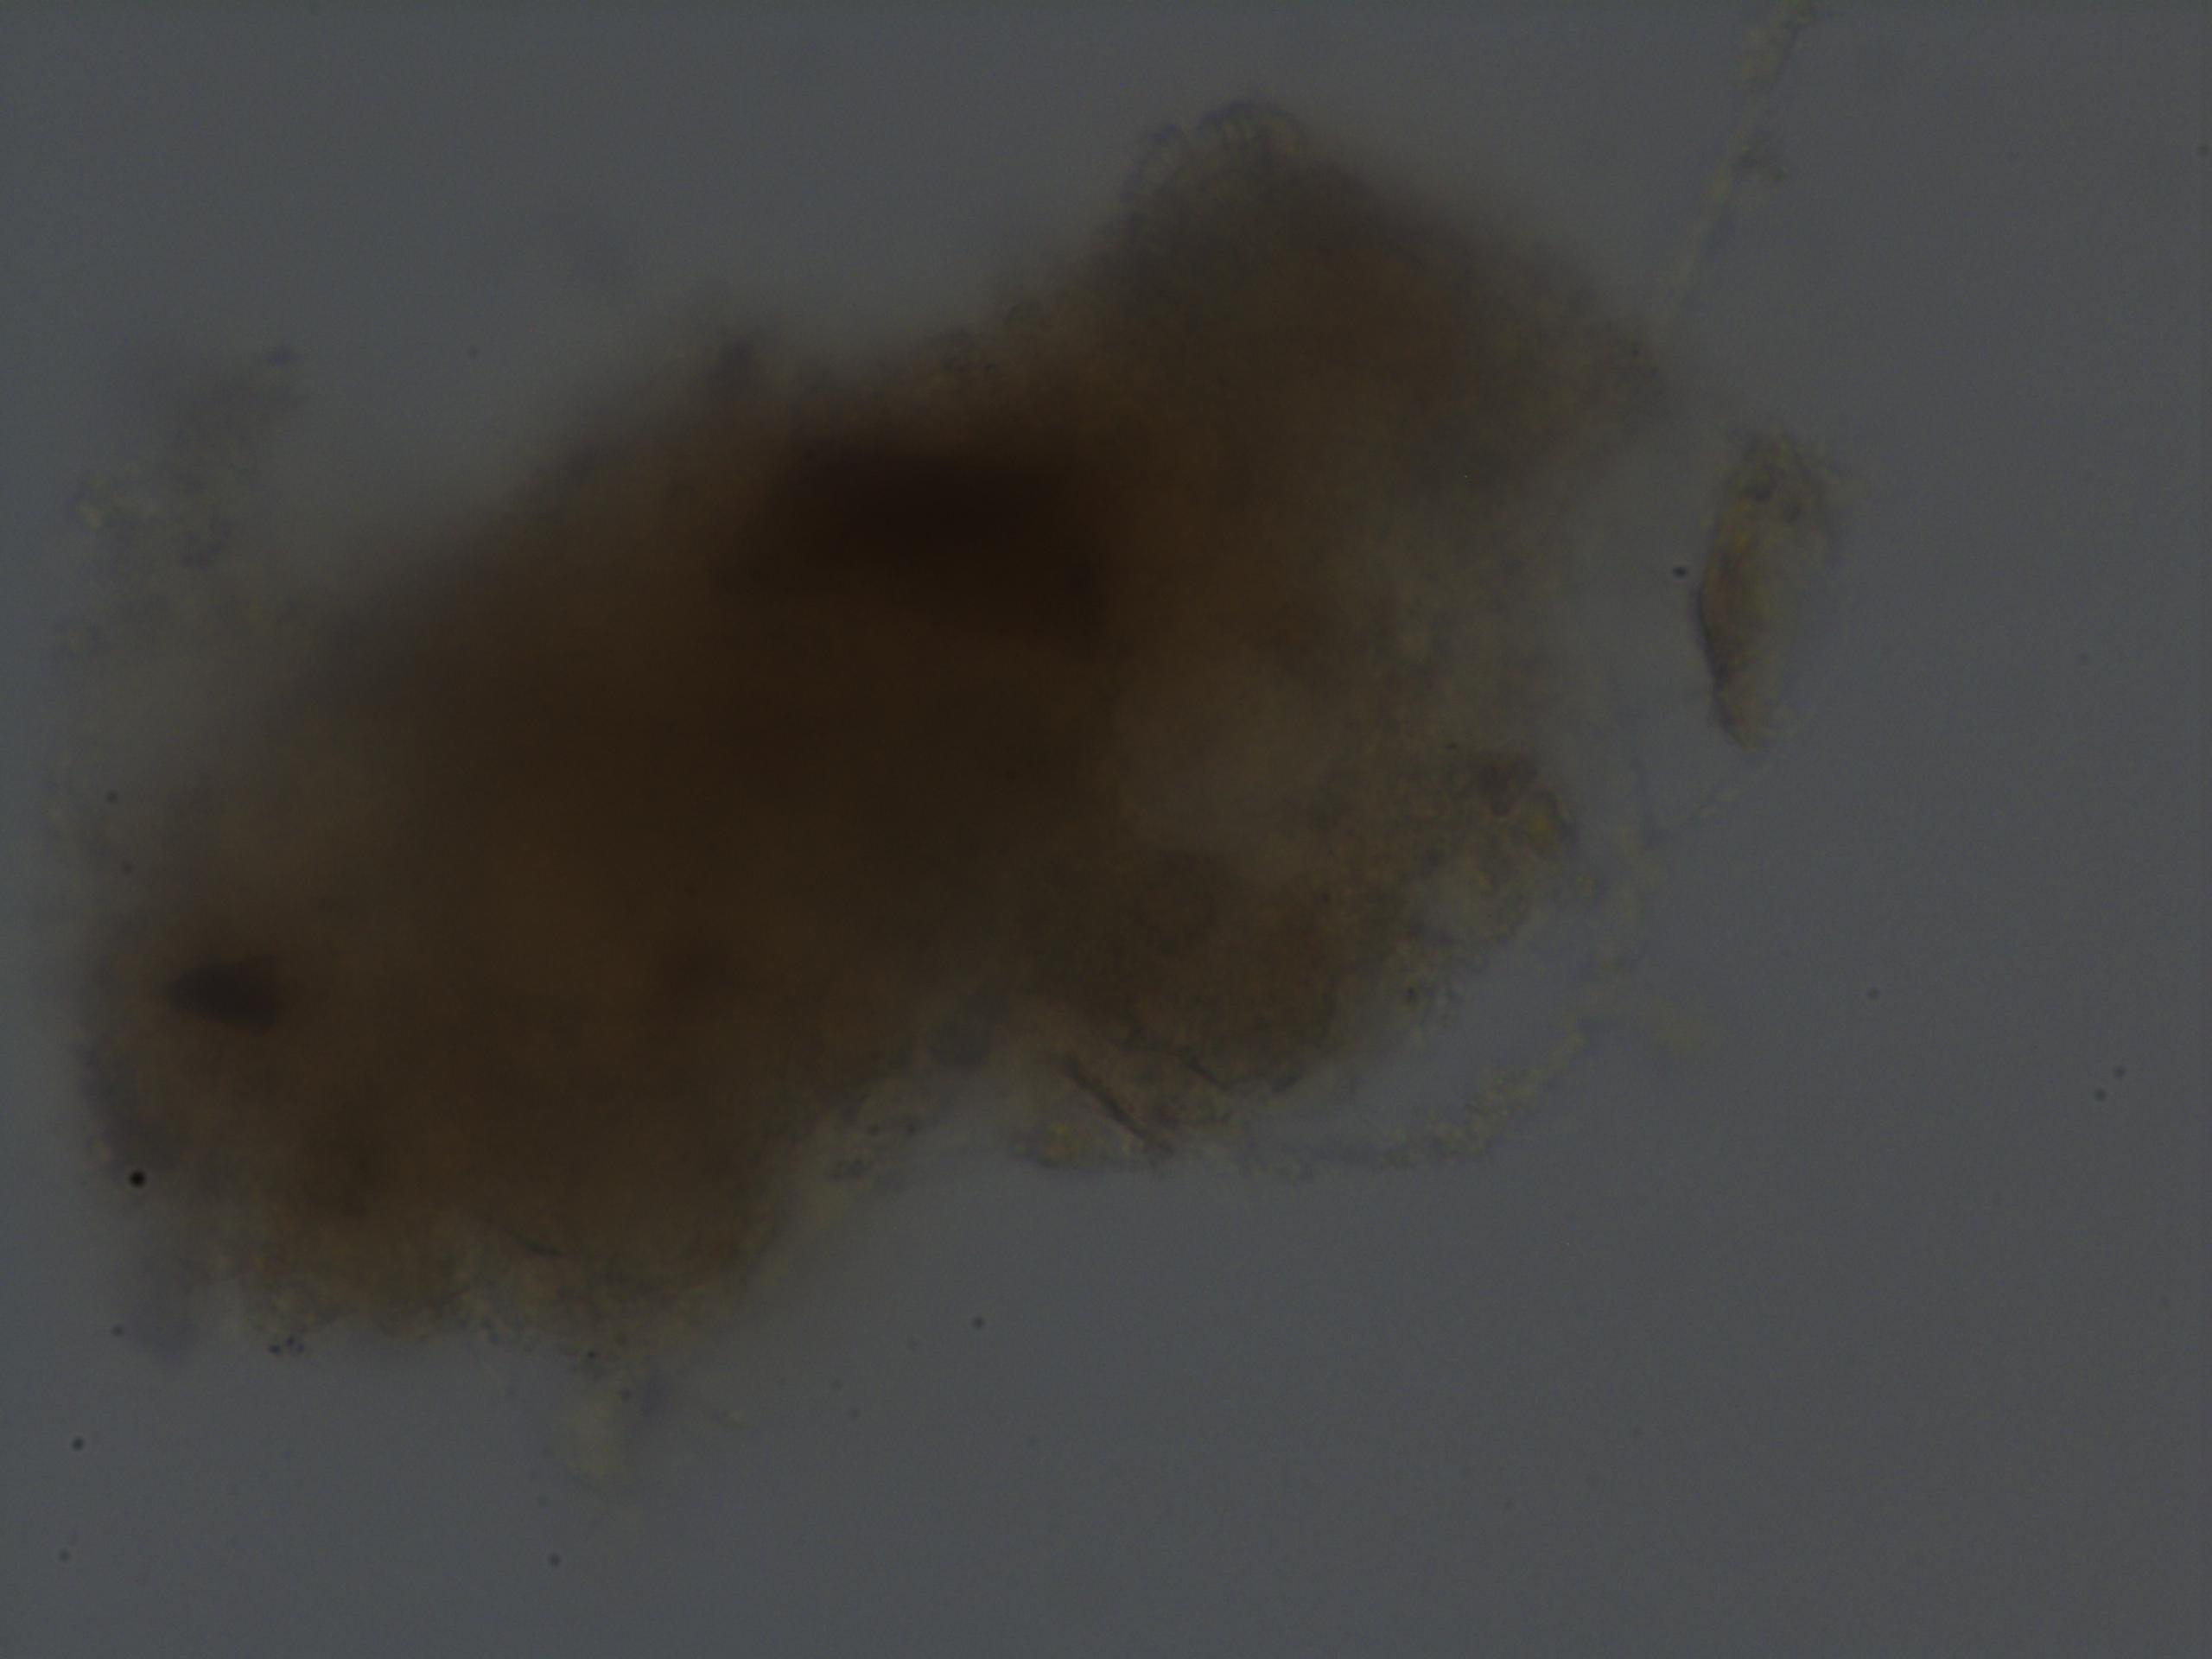filament: (1252, 758, 1763, 1180), (1625, 0, 1829, 335)
spherical_floc: (68, 122, 1677, 1359)
